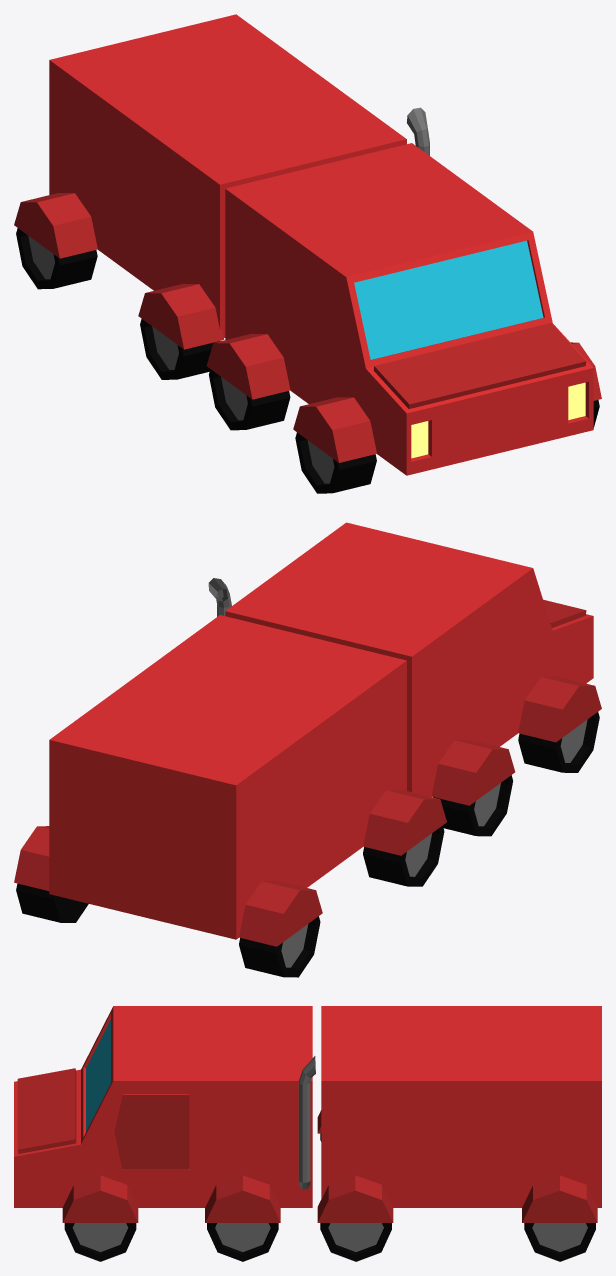
File: Carro 1.fbx
The picture shows the model from 3 angles, top to bottom: view 1: azimuth 30°, elevation 25°; view 2: azimuth 150°, elevation 25°; view 3: azimuth 270°, elevation 25°; orthographic projection. The views are drawn at different scales.
Parts seen in each view (by area): view 1: Carro; view 2: Carro; view 3: Carro.
Part boxes in pixels (<box>): Carro: <box>14,14,601,493</box>; Carro: <box>14,522,601,977</box>; Carro: <box>14,1006,601,1261</box>.
Size of the model in its own units: 109 by 92.83 by 257.
